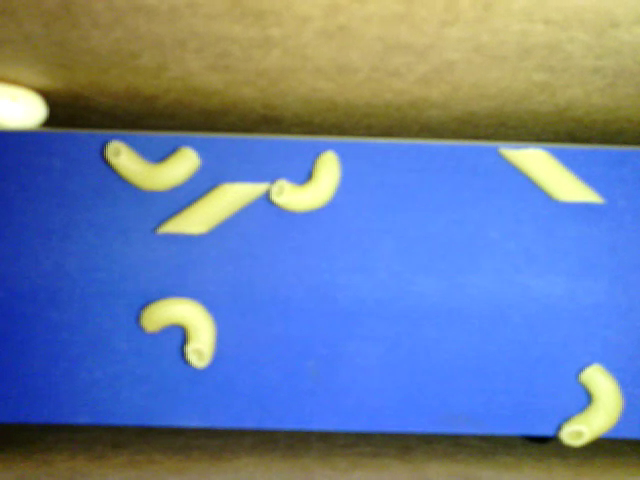elbow: (557, 362, 624, 446), (140, 297, 217, 370), (103, 139, 201, 190), (267, 150, 341, 213)
penne: (153, 182, 269, 235), (498, 147, 602, 203)
